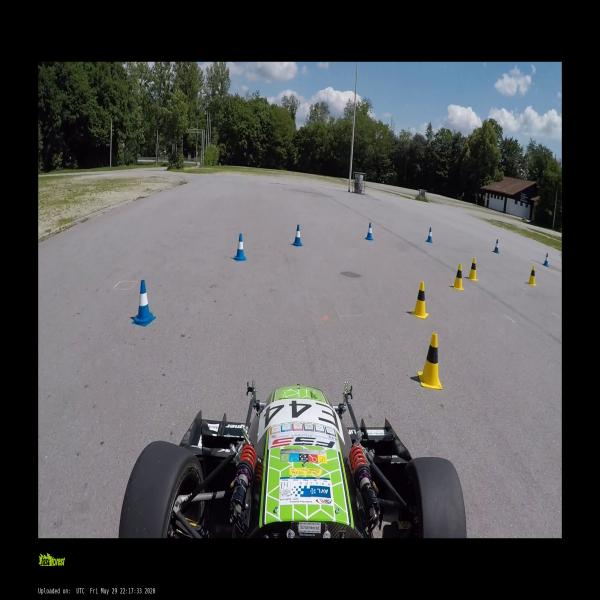blue_cone: (132, 280, 156, 326), (234, 234, 247, 262), (293, 224, 302, 247), (365, 222, 373, 240), (426, 227, 433, 243), (542, 253, 549, 267), (493, 239, 499, 253)
yellow_cone: (418, 332, 442, 389), (411, 281, 429, 319), (452, 264, 464, 290), (466, 258, 479, 280), (528, 265, 536, 286)
